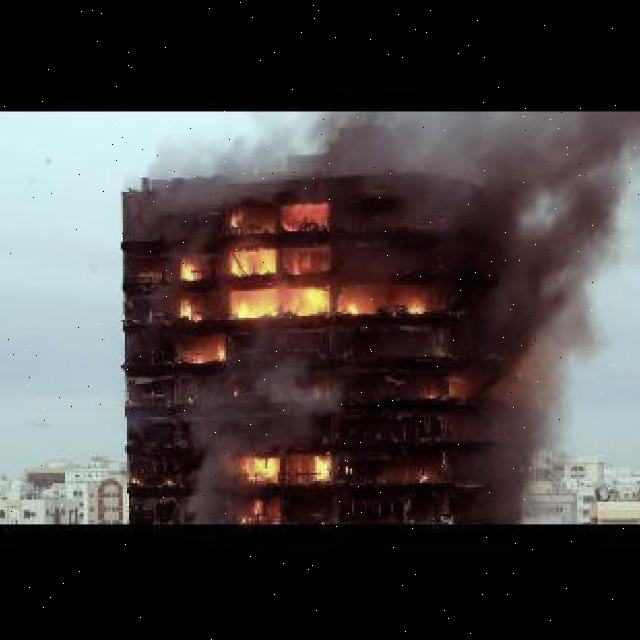fire: (150, 202, 422, 362), (234, 454, 334, 522), (414, 467, 430, 489)
smoke: (453, 116, 627, 522), (137, 112, 451, 198), (212, 359, 344, 454), (174, 386, 234, 522)
